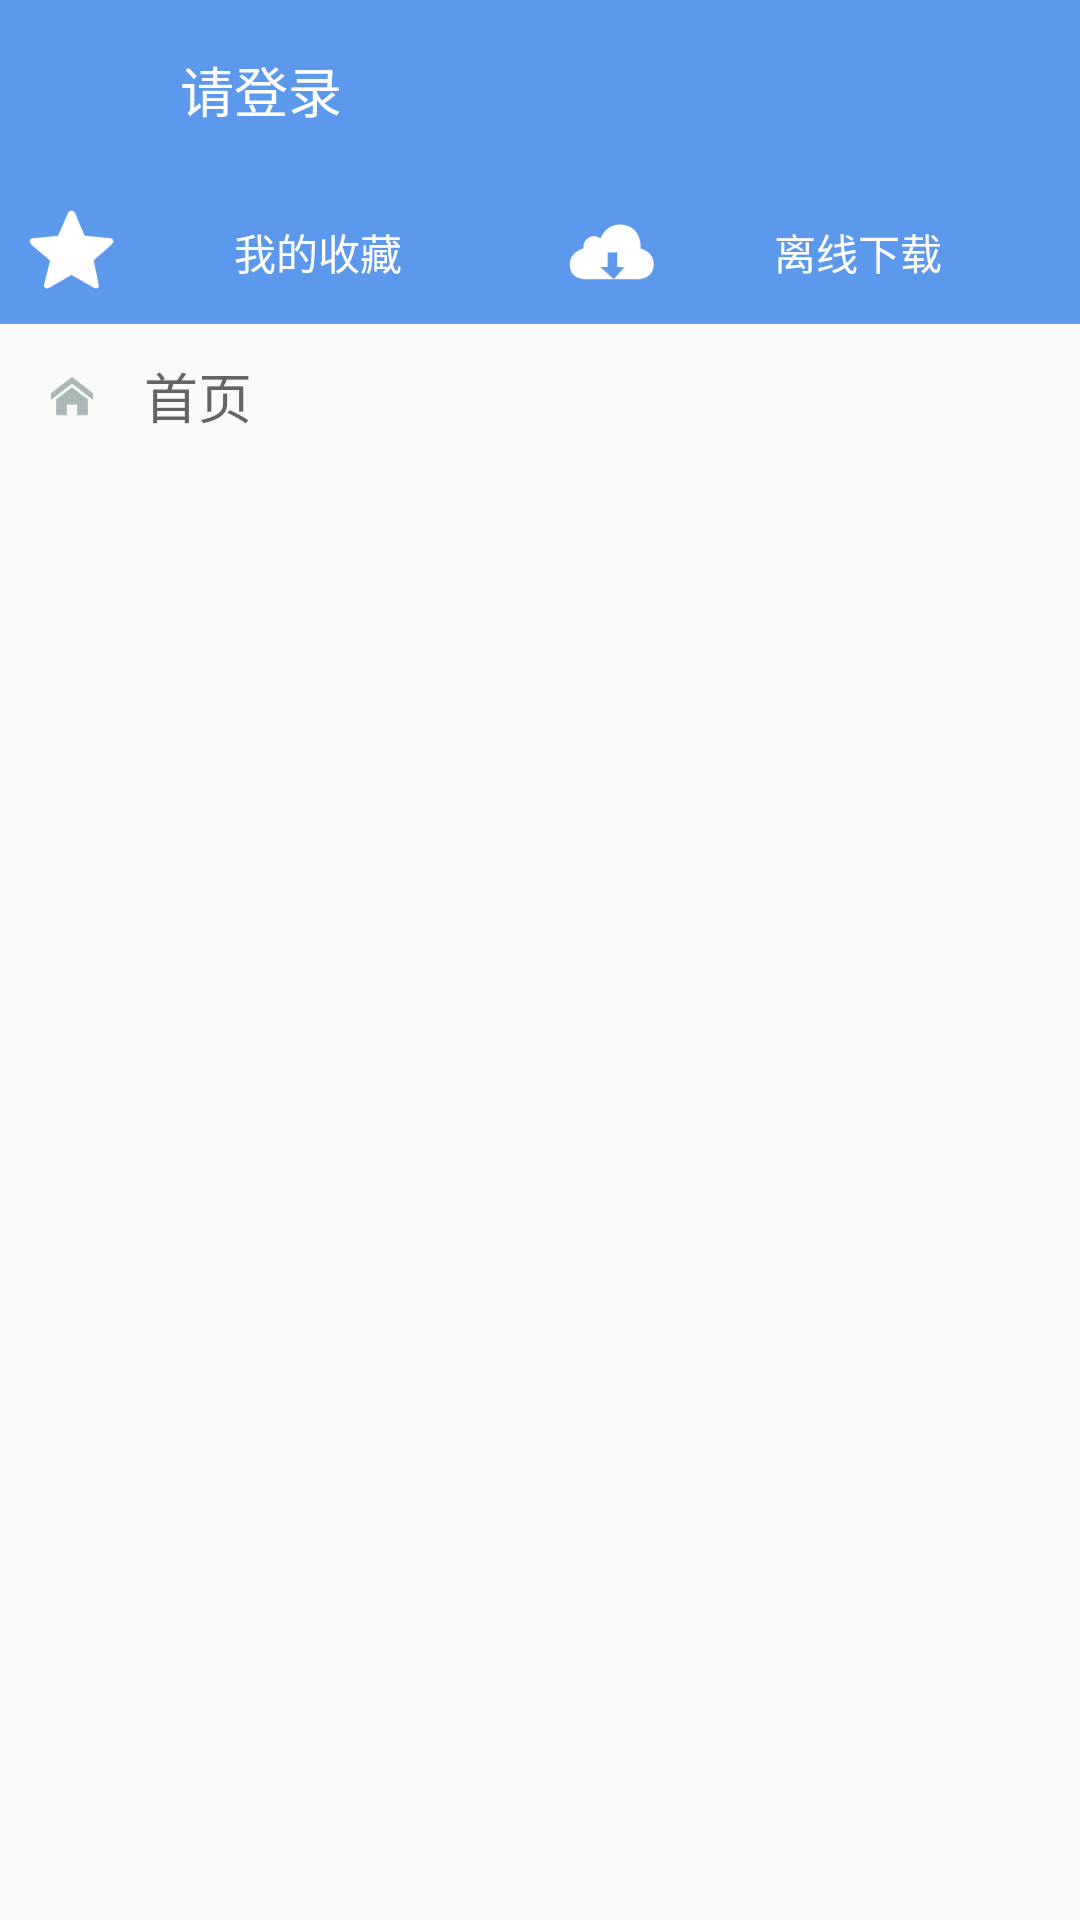

Icons on this 1080×1920 Android screen, each with the point to tap as point (x, y):
home: point (72, 396)
